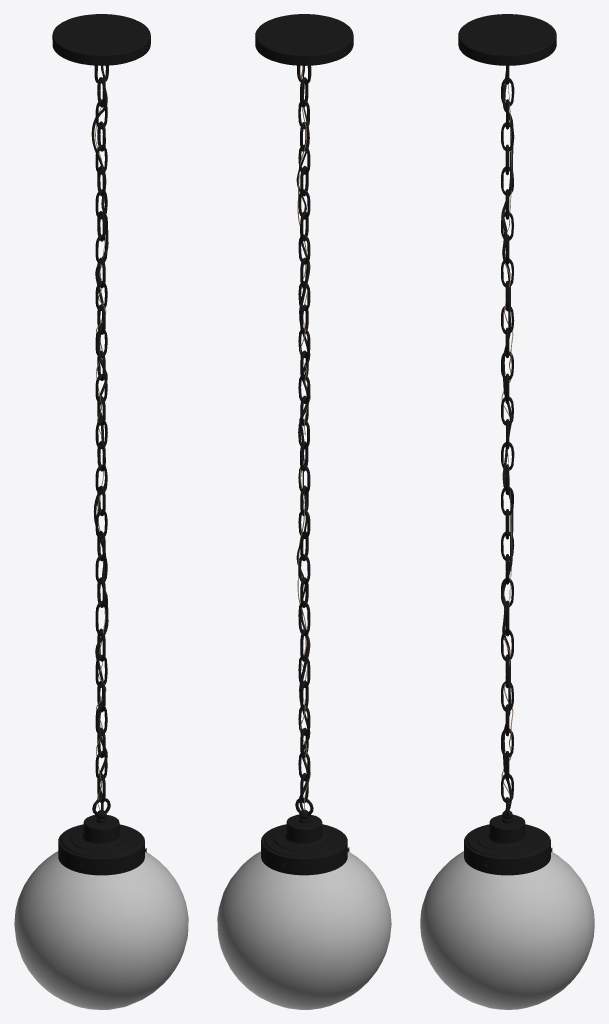
Rendered from abo-B082JHXMHL.glb.
3 views of the same model, side by side, from view 1: azimuth 30°, elevation 25°; view 2: azimuth 150°, elevation 25°; view 3: azimuth 270°, elevation 25° (orthographic).
Size of the model in its own units: 0.305 by 1.87 by 0.305.
Materials: 1 (1 with a texture image).
